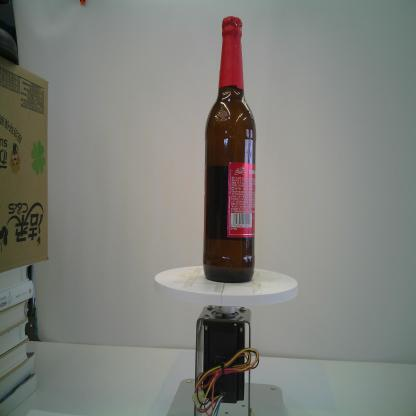Alcohol: (200, 10, 259, 286)
